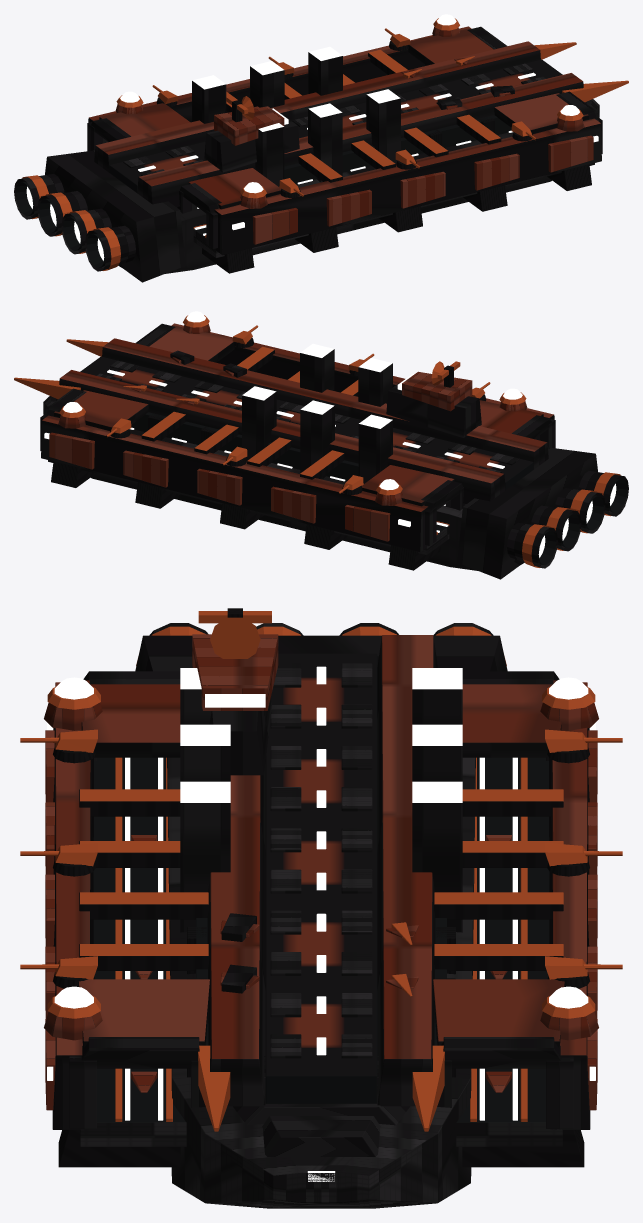
File: carrier.glb
3 views of the same model, one above another, from view 1: azimuth 30°, elevation 25°; view 2: azimuth 150°, elevation 25°; view 3: azimuth 270°, elevation 25° (orthographic). The views are drawn at different scales.
Parts seen in each view (by area): view 1: hull_body, engine_block, sensor_island, shield_domes, weapon_turrets; view 2: hull_body, engine_block, sensor_island, shield_domes, weapon_turrets; view 3: hull_body, sensor_island, shield_domes, weapon_turrets, engine_block.
Part boxes in pixels (x1,y1,x2,y2): hull_body: (87, 26, 628, 273); engine_block: (14, 150, 185, 282); sensor_island: (204, 96, 299, 172); shield_domes: (115, 14, 584, 208); weapon_turrets: (152, 28, 537, 197); hull_body: (14, 323, 555, 570); engine_block: (457, 447, 628, 579); sensor_island: (386, 361, 481, 437); shield_domes: (58, 311, 527, 505); weapon_turrets: (105, 325, 490, 494); hull_body: (45, 635, 597, 1208); sensor_island: (192, 608, 278, 775); shield_domes: (44, 677, 598, 1040); weapon_turrets: (20, 729, 622, 988); engine_block: (135, 623, 507, 671).
Size of the model in its own units: 55 by 14.13 by 26.46.
1 material, 1 textured.
